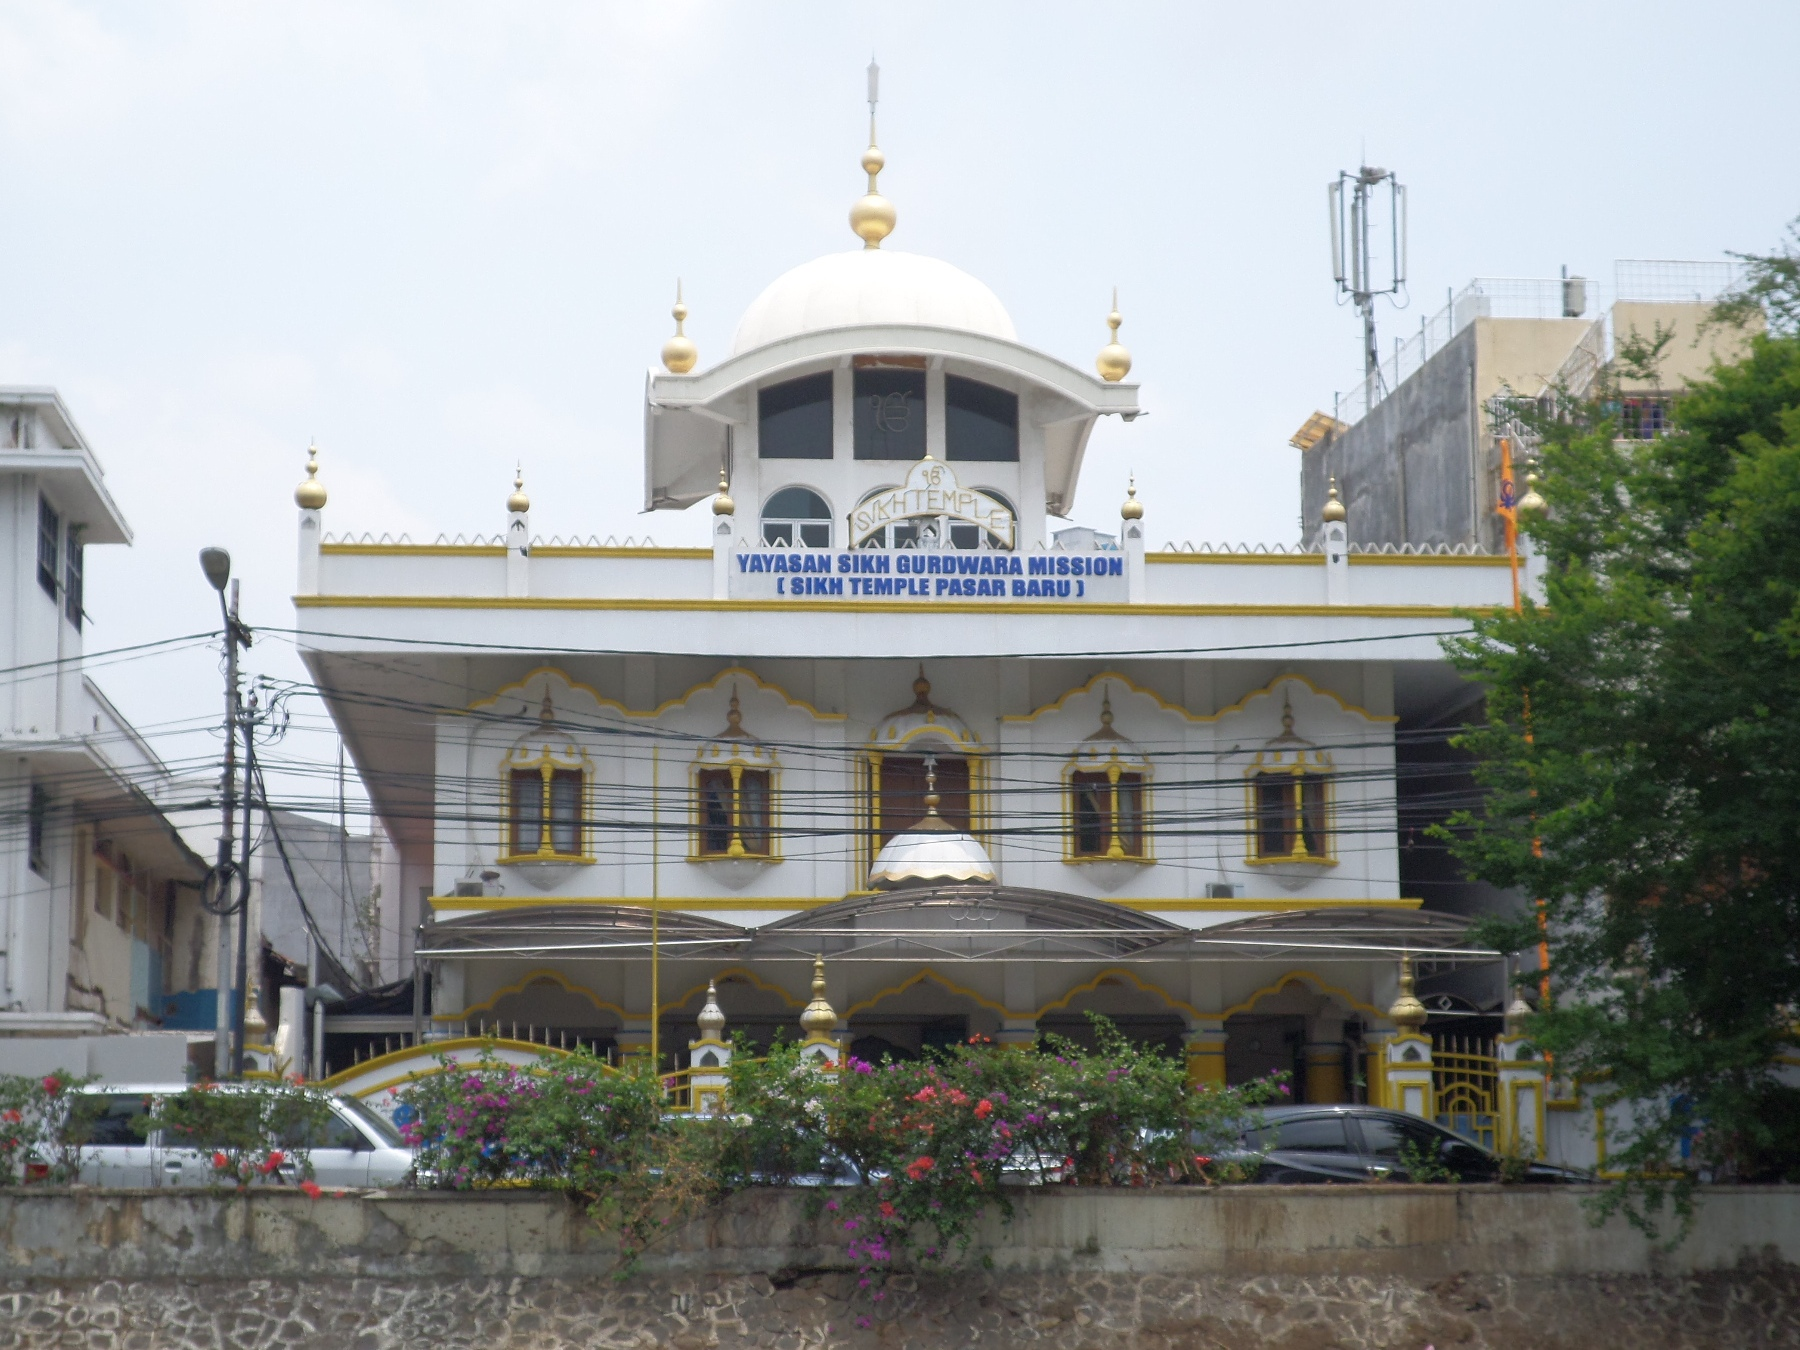Gurdwara: (342, 84, 1424, 1154)
